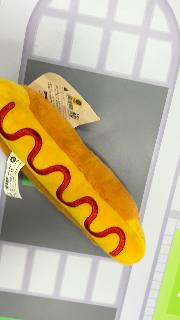hotdog: (1, 78, 147, 266)
